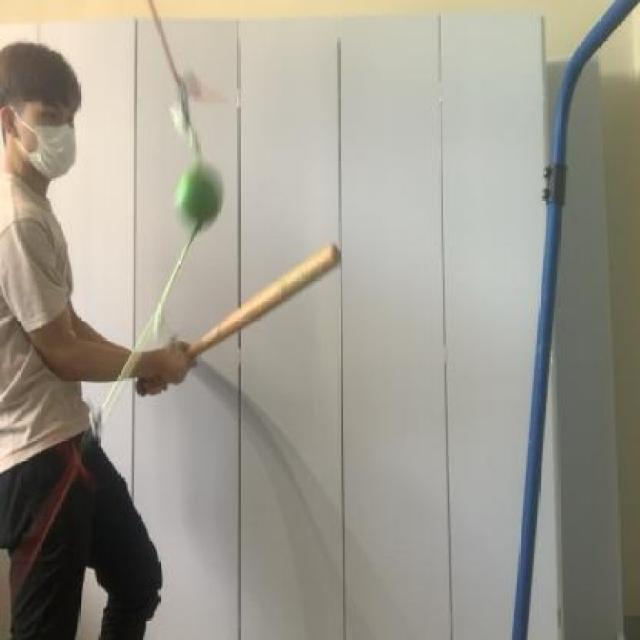baseball: (168, 151, 234, 238)
